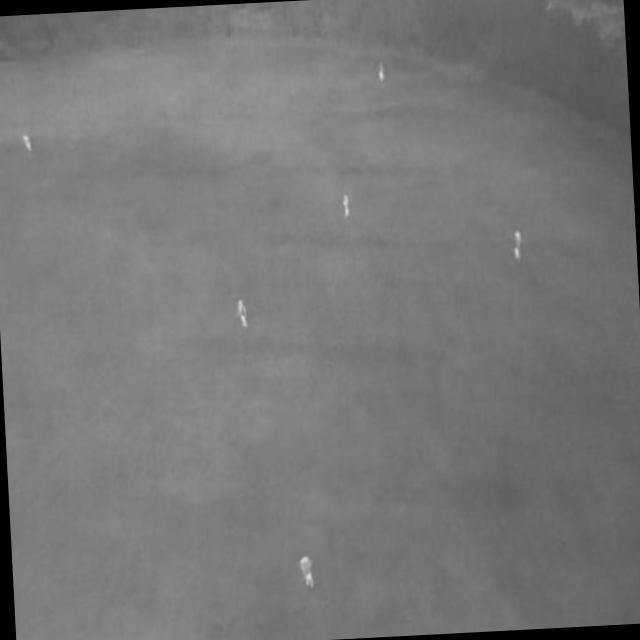person: (298, 553, 316, 594), (236, 298, 249, 331), (512, 230, 524, 263), (343, 193, 352, 221), (22, 132, 33, 153), (377, 61, 386, 86)
